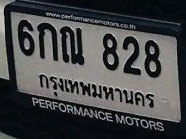num6: (16, 19, 35, 57)
txt01: (36, 22, 59, 62)
txt14: (58, 25, 85, 67)
